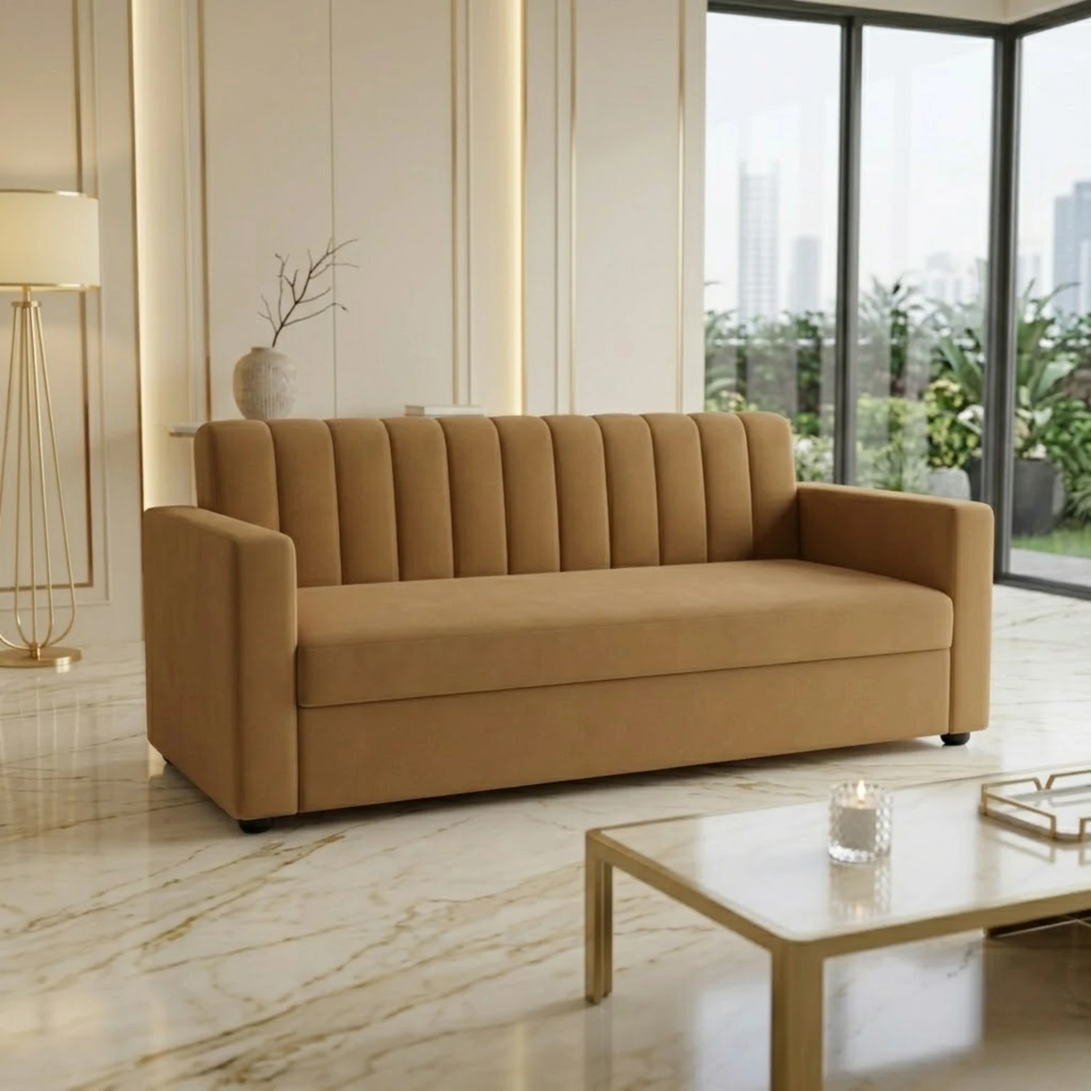3seatersofa: (143, 413, 992, 832)
backrest: (195, 413, 800, 586)
base: (300, 651, 948, 807)
leftarmrest: (797, 484, 993, 729)
leg: (237, 817, 275, 834), (940, 732, 970, 747)
rightarmrest: (143, 508, 296, 817)
seat: (298, 560, 952, 706)
